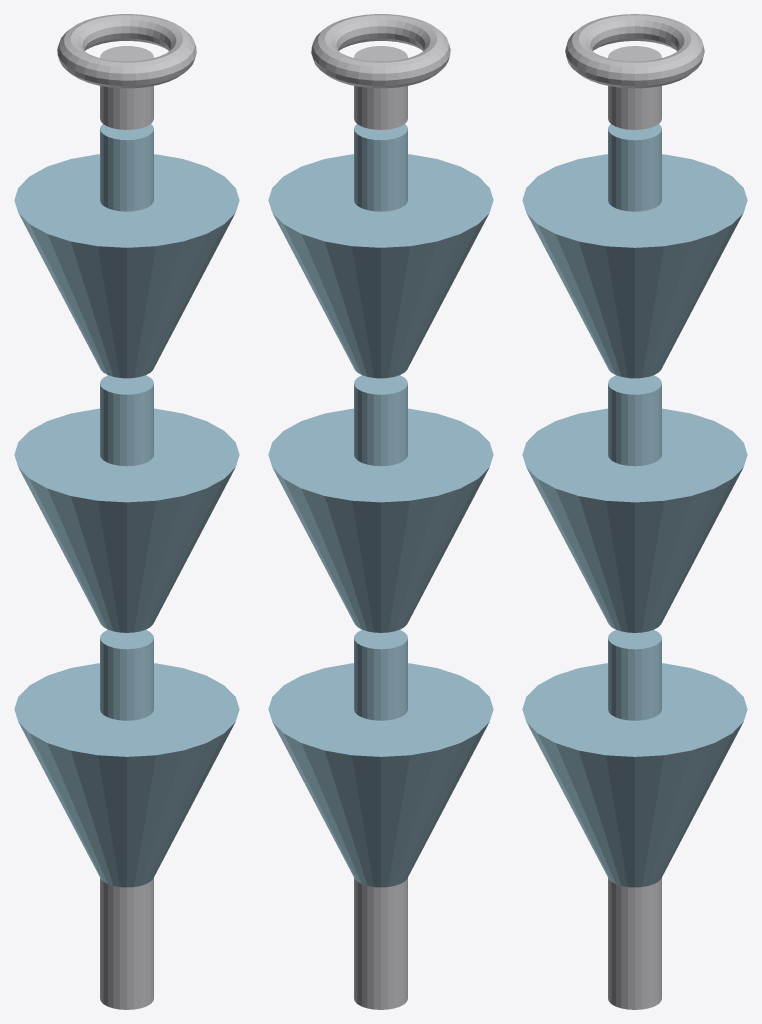
File: Cadena_20kV_SUS_SIM_VID.fbx
The picture shows the model from 3 angles, left to right: view 1: azimuth 30°, elevation 25°; view 2: azimuth 150°, elevation 25°; view 3: azimuth 270°, elevation 25°; orthographic projection.
Visible parts, largest first — view 1: Cadena_20kV_SUS_SIM_VID; view 2: Cadena_20kV_SUS_SIM_VID; view 3: Cadena_20kV_SUS_SIM_VID.
Part boxes in pixels (<box>): Cadena_20kV_SUS_SIM_VID: <box>14,14,239,1009</box>; Cadena_20kV_SUS_SIM_VID: <box>268,14,493,1009</box>; Cadena_20kV_SUS_SIM_VID: <box>522,14,747,1009</box>.
Size of the model in its own units: 10 by 47 by 10.
